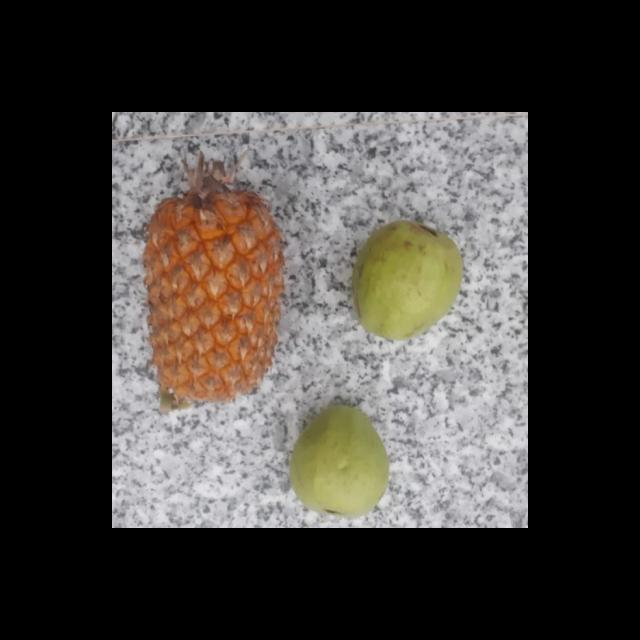guava: (347, 224, 463, 339), (286, 409, 391, 516)
pineapple: (144, 185, 280, 412)
